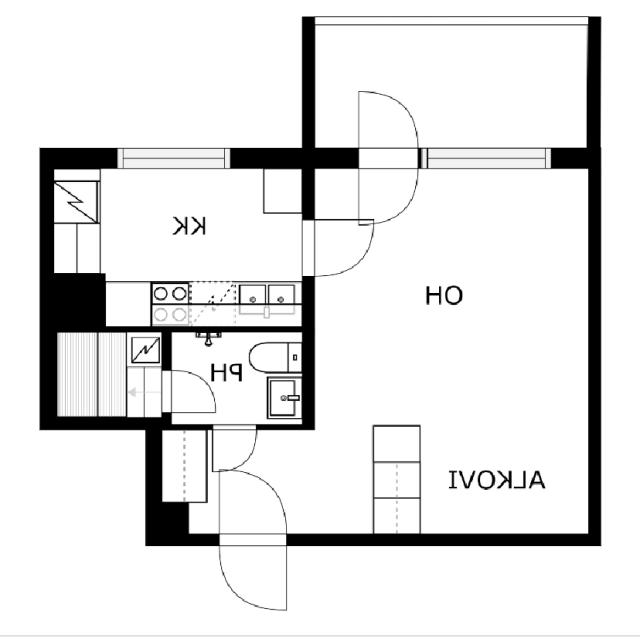door: (207, 459, 302, 620), (341, 86, 420, 225), (278, 205, 384, 277), (152, 367, 224, 422), (208, 414, 260, 472)
window: (412, 138, 566, 179), (101, 134, 242, 176)
zone: (305, 157, 594, 534), (47, 156, 312, 328), (165, 330, 312, 428), (46, 333, 167, 420)
